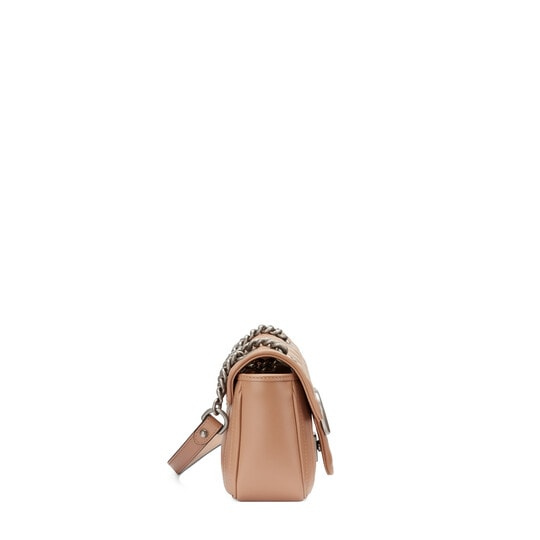Gucci: (201, 323, 334, 495)
